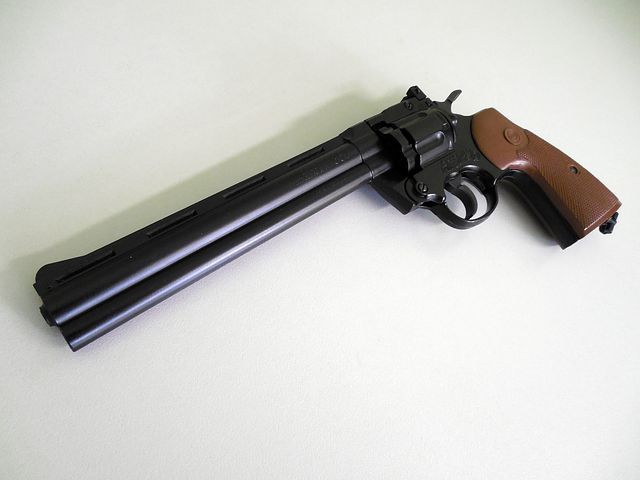gun: (29, 81, 630, 356)
